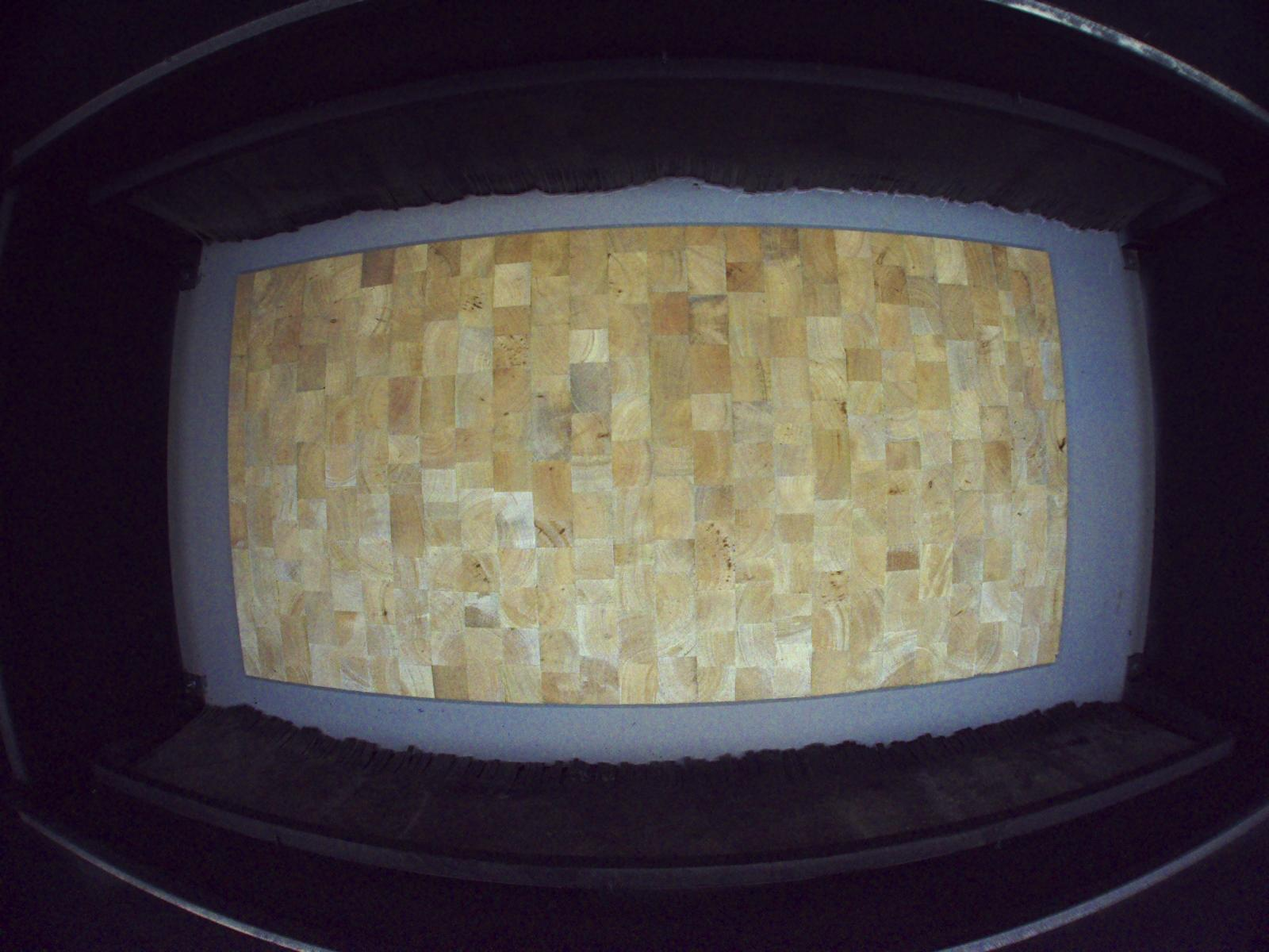sheck_ecuatoriano: (1052, 399, 1067, 454)
